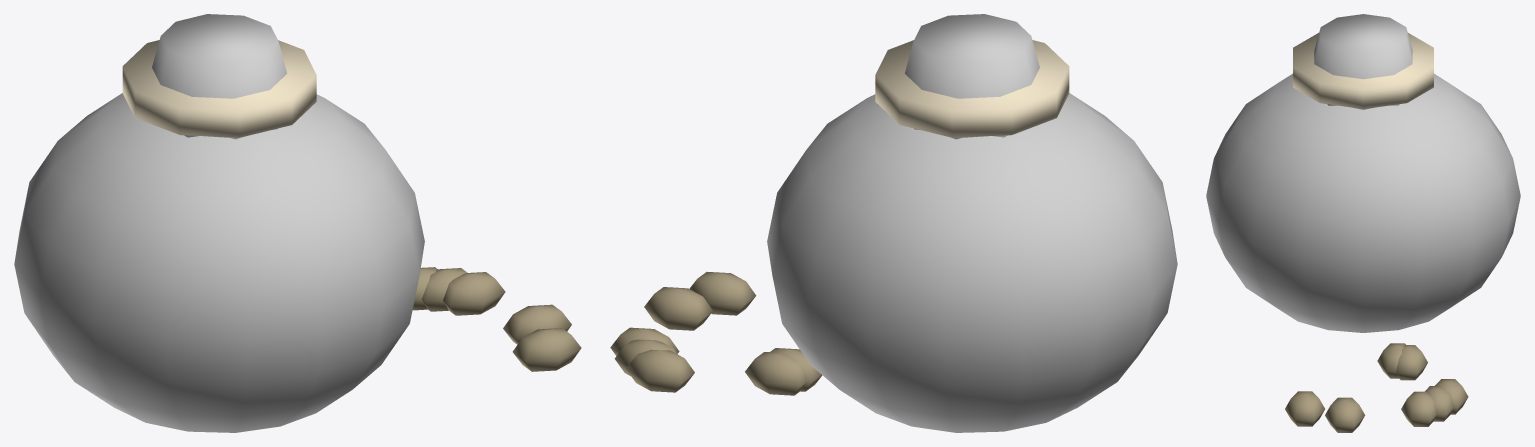
Rendered from SM_Item_seeds_carrot.gltf.
3 renders of one model, left to right at view 1: azimuth 30°, elevation 25°; view 2: azimuth 150°, elevation 25°; view 3: azimuth 270°, elevation 25°, orthographic. The views are drawn at different scales.
Visible parts, largest first — view 1: SM_Item_seeds_carrot; view 2: SM_Item_seeds_carrot; view 3: SM_Item_seeds_carrot.
Boxes of the visible parts, left/top/right/bottom form: SM_Item_seeds_carrot: left=14, top=14, right=581, bottom=432; SM_Item_seeds_carrot: left=610, top=14, right=1177, bottom=432; SM_Item_seeds_carrot: left=1206, top=14, right=1520, bottom=432.
Size of the model in its own units: 0.2003 by 0.1395 by 0.14.
